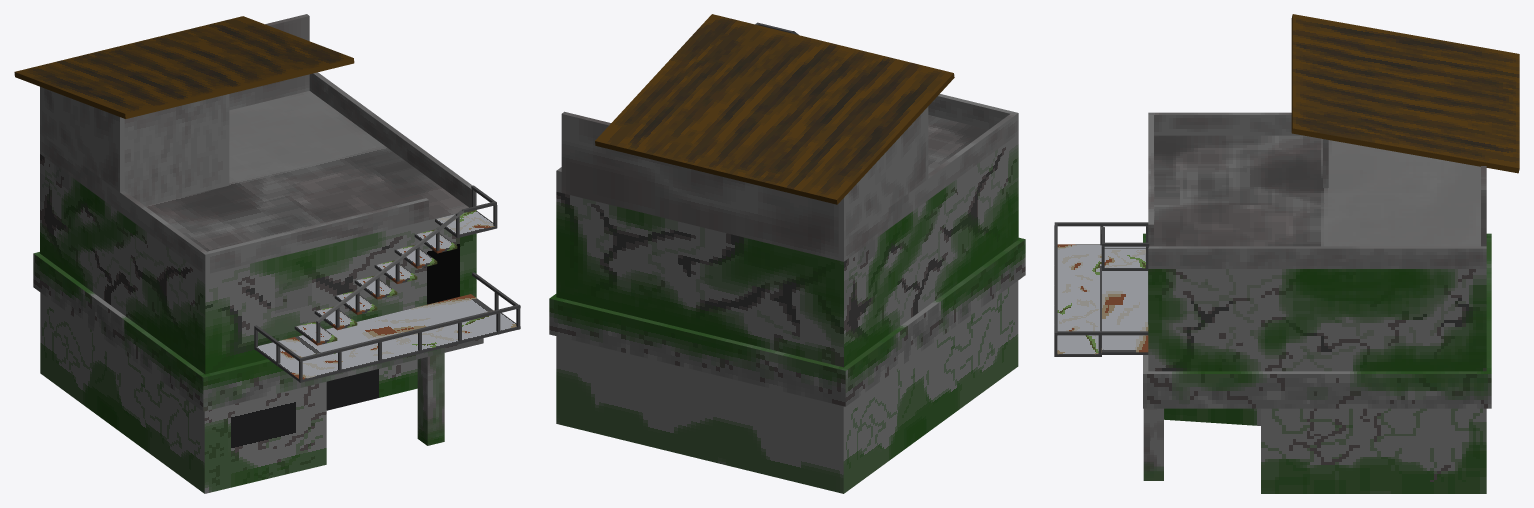
Rendered from safehouse.gltf.
3 views of the same model, side by side, from view 1: azimuth 30°, elevation 25°; view 2: azimuth 150°, elevation 25°; view 3: azimuth 270°, elevation 25° (orthographic). The views are drawn at different scales.
Parts seen in each view (by area): view 1: cube (×16), Lower; view 2: cube (×7), Lower; view 3: cube (×10), Lower.
Part boxes in pixels (x1,y1,x2,y2): cube (×16): (14, 14, 520, 445); Lower: (40, 292, 417, 493); cube (×7): (549, 14, 1025, 406); Lower: (556, 281, 1018, 493); cube (×10): (1054, 14, 1519, 480); Lower: (1164, 408, 1486, 493).
Bounding box in the file's own units: 0.3744 × 0.4198 × 0.5157.
18 materials, 18 textured.
